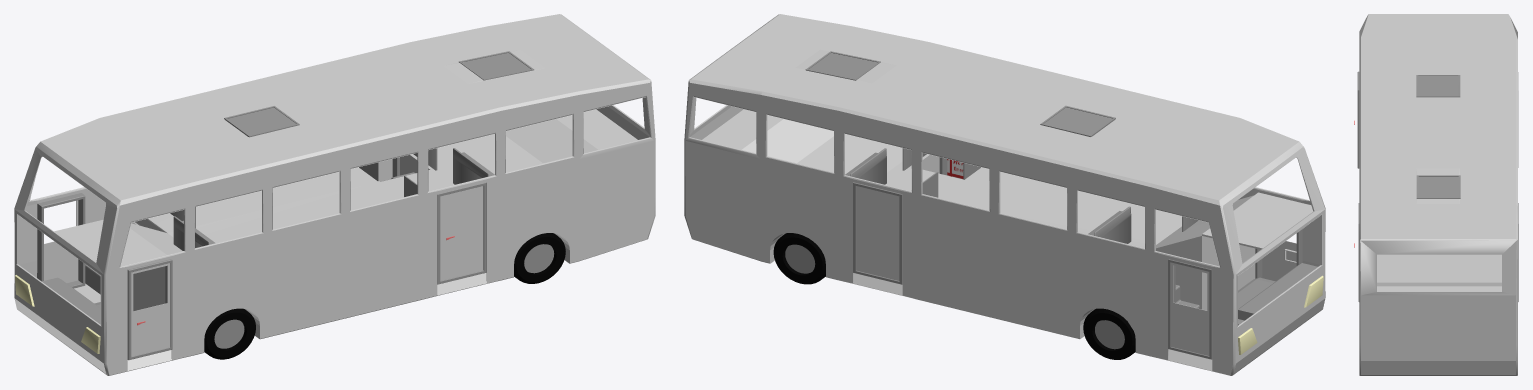
The model's file is New_bus_02.FBX.
3 renders of one model, left to right at view 1: azimuth 30°, elevation 25°; view 2: azimuth 150°, elevation 25°; view 3: azimuth 270°, elevation 25°, orthographic. The views are drawn at different scales.
Visible parts, largest first — view 1: busbody, left_back_door, left_front_door, right_front_door, ex_gate001, ex_gate; view 2: busbody, right_back_door, right_front_door, left_front_door, ex_gate001, ex_gate; view 3: busbody, ex_gate, ex_gate001, exit_gate, left_front_door, exit_gate001, left_back_door.
Part boxes in pixels (x1,y1,x2,y2): busbody: (14,14,655,375); left_back_door: (437,182,486,284); left_front_door: (127,259,172,360); right_front_door: (37,193,85,288); ex_gate001: (227,107,295,135); ex_gate: (462,53,530,78); busbody: (684,14,1325,375); right_back_door: (853,182,902,284); right_front_door: (1168,259,1212,359); left_front_door: (1255,229,1302,281); ex_gate001: (1044,107,1112,134); ex_gate: (809,53,877,78); busbody: (1359,14,1517,375); ex_gate: (1418,176,1458,197); ex_gate001: (1418,76,1458,95); exit_gate: (1416,175,1460,198); left_front_door: (1357,71,1359,168); exit_gate001: (1416,75,1460,97); left_back_door: (1358,203,1359,301).
Bounding box in the file's own units: 4585 × 1490 × 1357.
